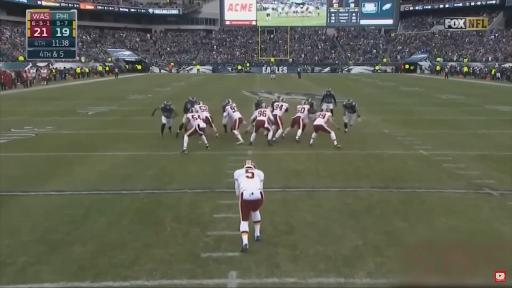Helmet: (243, 160, 255, 168), (189, 107, 197, 113), (306, 98, 313, 104), (164, 101, 171, 106), (226, 99, 232, 104), (345, 99, 352, 103), (261, 103, 266, 108), (280, 97, 285, 102), (190, 97, 196, 101), (301, 101, 307, 105), (326, 88, 331, 92), (199, 102, 203, 105)
Jersey: (234, 168, 265, 193), (186, 112, 205, 126), (271, 103, 289, 117), (314, 112, 331, 126), (253, 109, 271, 122), (227, 105, 243, 119), (293, 106, 309, 118), (161, 105, 175, 118), (197, 105, 210, 117), (344, 102, 357, 114), (323, 94, 335, 103), (310, 104, 315, 114), (255, 103, 261, 109)
Player: (233, 160, 264, 252), (278, 101, 309, 142), (182, 108, 210, 153), (310, 109, 341, 148), (249, 105, 273, 145), (223, 99, 244, 143), (152, 101, 178, 135), (176, 97, 198, 137), (196, 102, 218, 137), (273, 98, 289, 141), (343, 99, 360, 133), (321, 88, 337, 114), (307, 98, 317, 118), (254, 98, 263, 111), (270, 66, 276, 79)
